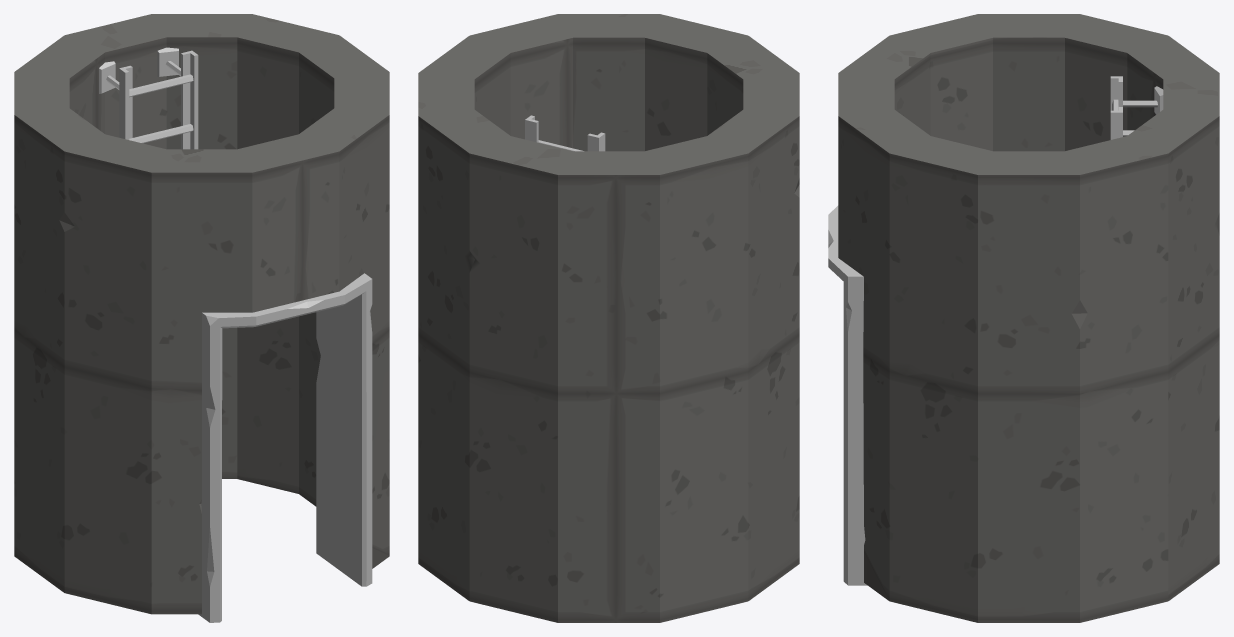
The model's file is SM_Bld_Prison_Tower_Bottom_01.fbx.
The picture shows the model from 3 angles, left to right: view 1: azimuth 30°, elevation 25°; view 2: azimuth 150°, elevation 25°; view 3: azimuth 270°, elevation 25°; orthographic projection.
Visible parts, largest first — view 1: SM_Bld_Prison_Tower_Bottom_01; view 2: SM_Bld_Prison_Tower_Bottom_01; view 3: SM_Bld_Prison_Tower_Bottom_01.
Part boxes in pixels (x1=…): SM_Bld_Prison_Tower_Bottom_01: x1=14, y1=14, x2=389, y2=622; SM_Bld_Prison_Tower_Bottom_01: x1=418, y1=14, x2=799, y2=622; SM_Bld_Prison_Tower_Bottom_01: x1=828, y1=14, x2=1219, y2=622.
Size of the model in its own units: 231 by 302 by 237.
